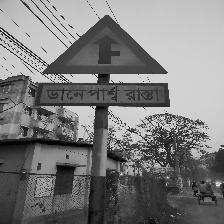Side-road-right: (37, 16, 171, 108)
